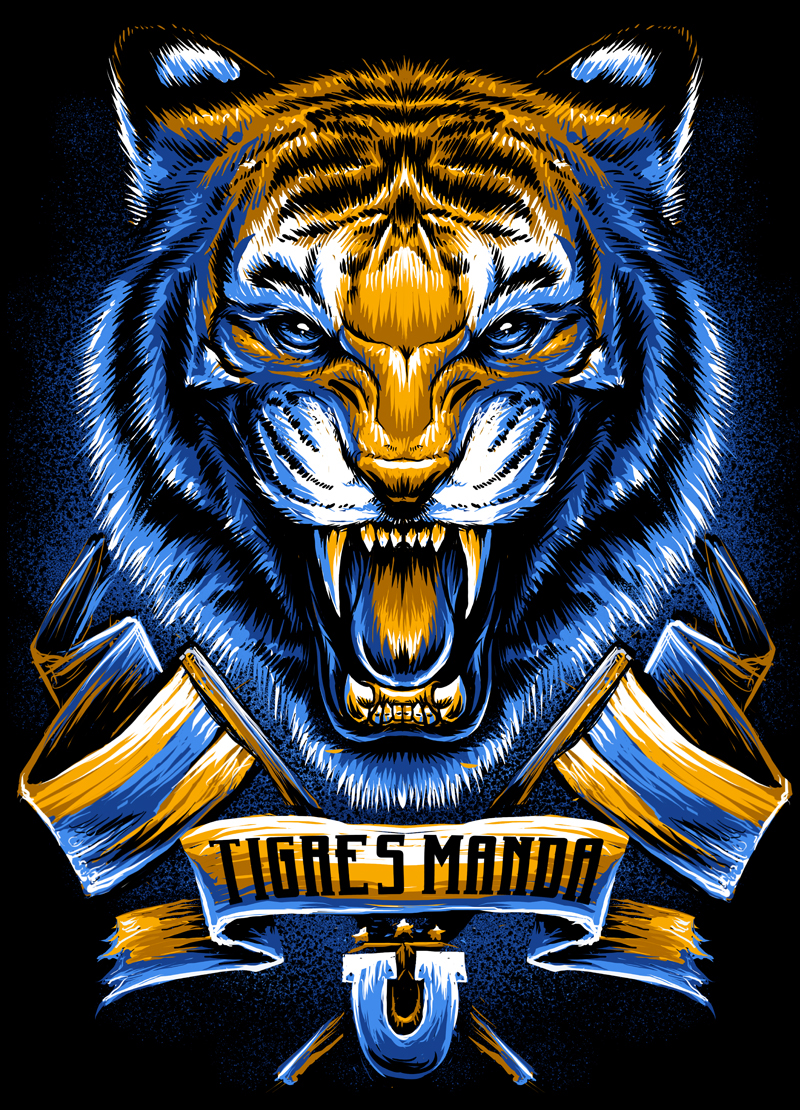Tigrew: (75, 27, 742, 830)
